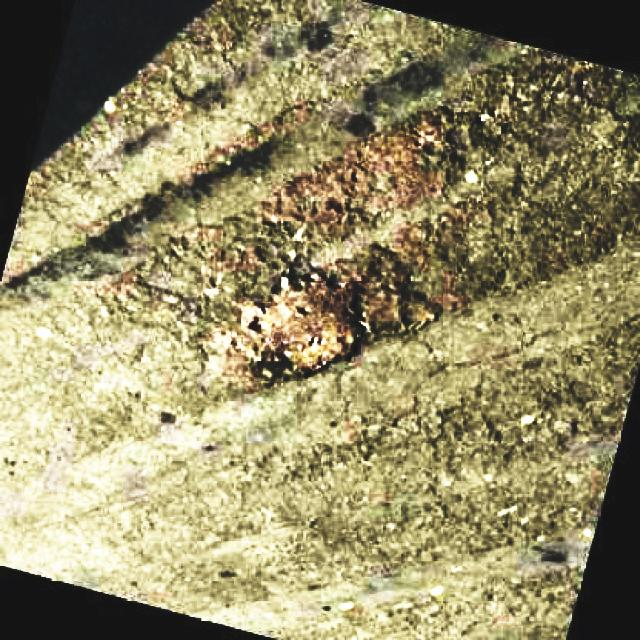pothole: (239, 266, 366, 377)
